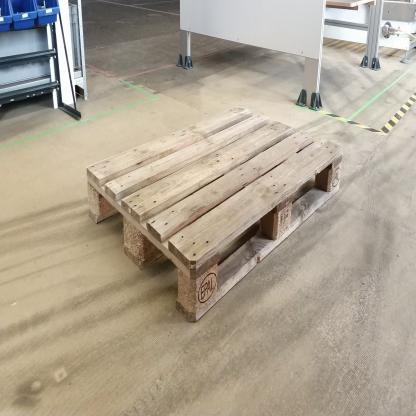BoxFace: (83, 98, 347, 337)
